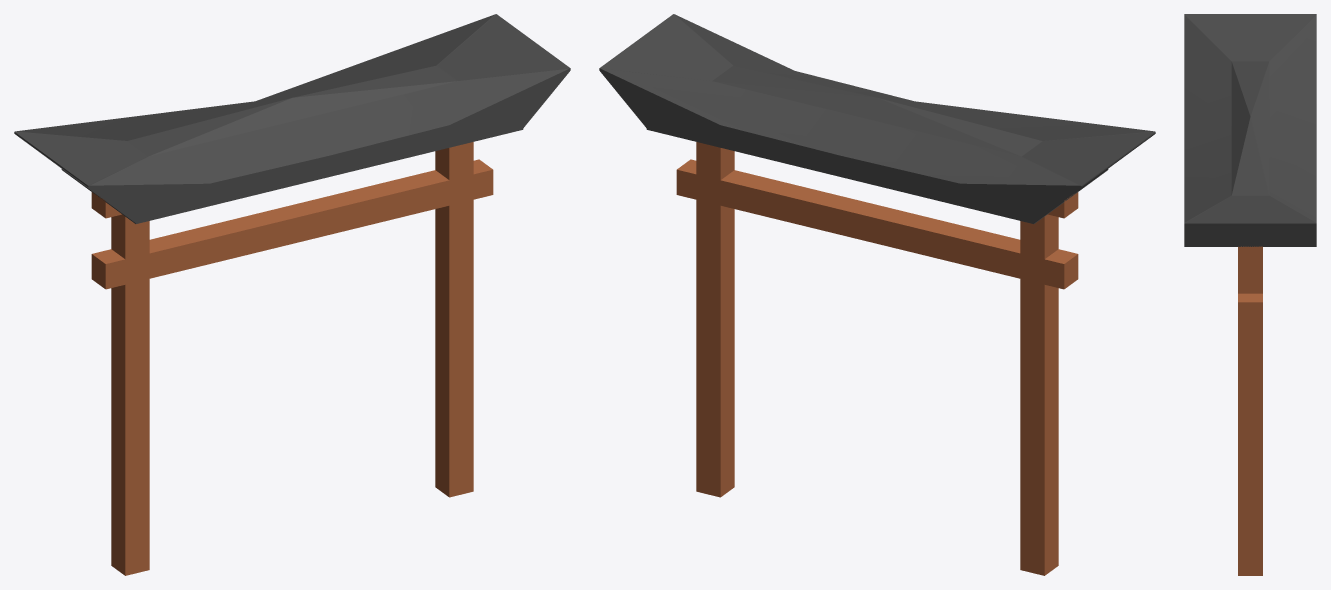
Rendered from gate.fbx.
The picture shows the model from 3 angles, left to right: view 1: azimuth 30°, elevation 25°; view 2: azimuth 150°, elevation 25°; view 3: azimuth 270°, elevation 25°; orthographic projection. The views are drawn at different scales.
Visible parts, largest first — view 1: roof1, ceilingPillar1, pillar1, pillar2; view 2: roof1, ceilingPillar1, pillar1, pillar2; view 3: roof1, pillar2, ceilingPillar1, ceilingPillar.
Part boxes in pixels (x1,y1,x2,y2): roof1: [14, 14, 570, 223]; ceilingPillar1: [91, 159, 493, 289]; pillar1: [111, 214, 149, 575]; pillar2: [435, 142, 473, 497]; roof1: [599, 14, 1155, 223]; ceilingPillar1: [676, 159, 1078, 289]; pillar1: [1020, 214, 1058, 575]; pillar2: [696, 142, 734, 497]; roof1: [1184, 14, 1316, 246]; pillar2: [1238, 261, 1262, 575]; ceilingPillar1: [1238, 293, 1262, 324]; ceilingPillar: [1238, 246, 1262, 261].
Size of the model in its own units: 24.89 by 21.26 by 6.64.
